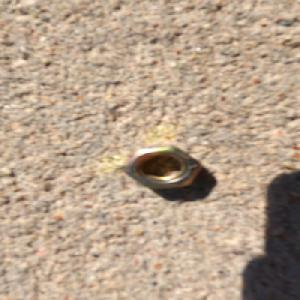Nut: (124, 145, 202, 191)
